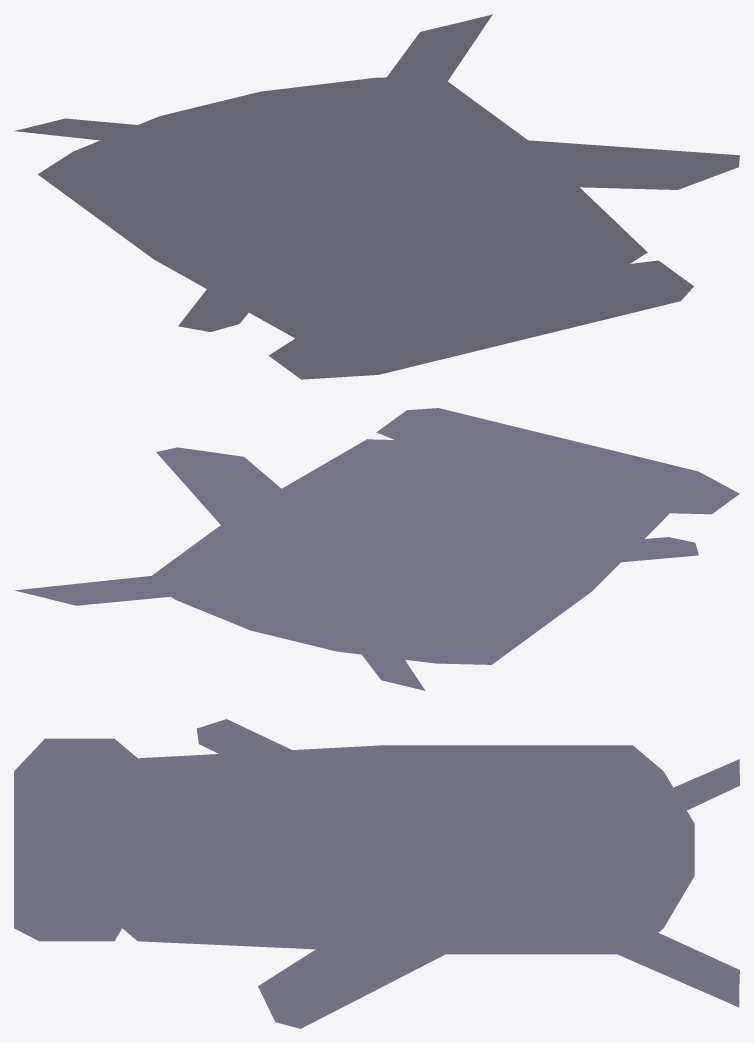
3 views of the same model, one above another, from view 1: azimuth 30°, elevation 25°; view 2: azimuth 150°, elevation 25°; view 3: azimuth 270°, elevation 25° (orthographic). The views are drawn at different scales.
Visible parts, largest first — view 1: Joint_0_Object_0; view 2: Joint_0_Object_0; view 3: Joint_0_Object_0.
Boxes of the visible parts, left/top/right/bottom form: Joint_0_Object_0: left=15, top=14, right=739, bottom=379; Joint_0_Object_0: left=15, top=408, right=739, bottom=690; Joint_0_Object_0: left=14, top=719, right=739, bottom=1028.
Size of the model in its own units: 1462 by 0 by 1448.
1 material, 1 textured.
